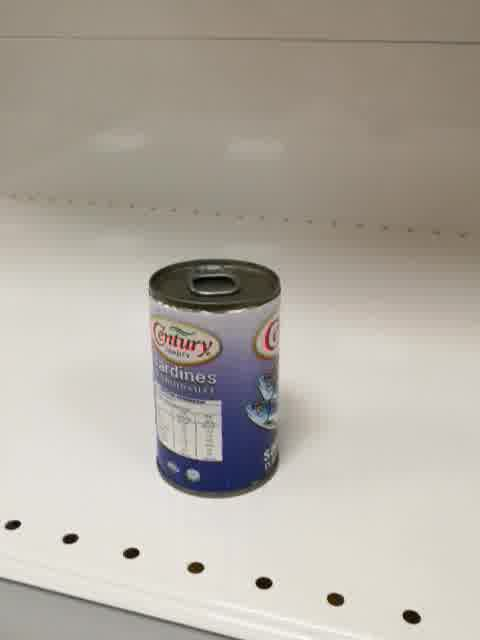sardine: (148, 258, 283, 501)
